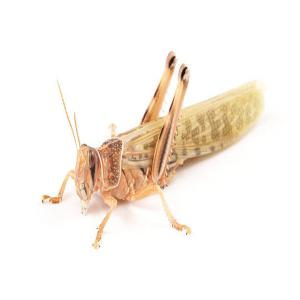locust: (49, 48, 272, 248)
